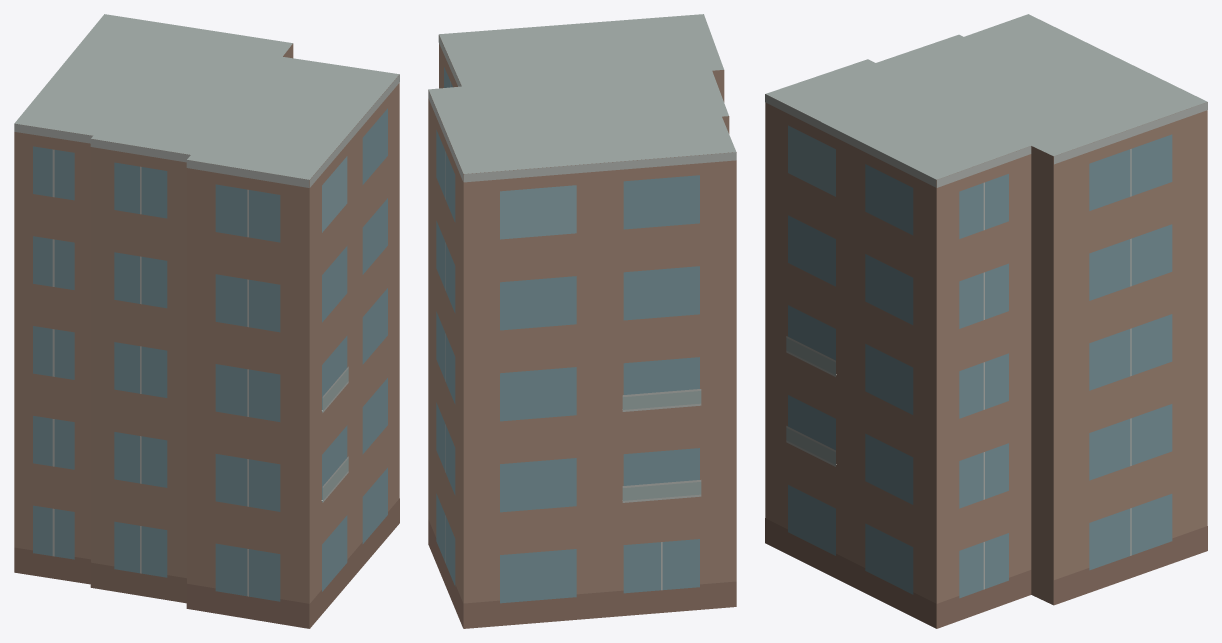
File: survey-upis-32982790.glb
3 views of the same model, side by side, from view 1: azimuth 30°, elevation 25°; view 2: azimuth 150°, elevation 25°; view 3: azimuth 270°, elevation 25° (orthographic).
Parts seen in each view (by area): view 1: survey-upis-32982790.tmp; view 2: survey-upis-32982790.tmp; view 3: survey-upis-32982790.tmp.
Boxes of the visible parts, bbox=[...] form: survey-upis-32982790.tmp: bbox=[14, 14, 399, 628]; survey-upis-32982790.tmp: bbox=[428, 14, 736, 628]; survey-upis-32982790.tmp: bbox=[765, 14, 1207, 628].
Bounding box in the file's own units: 10.54 × 13.3 × 11.89.
